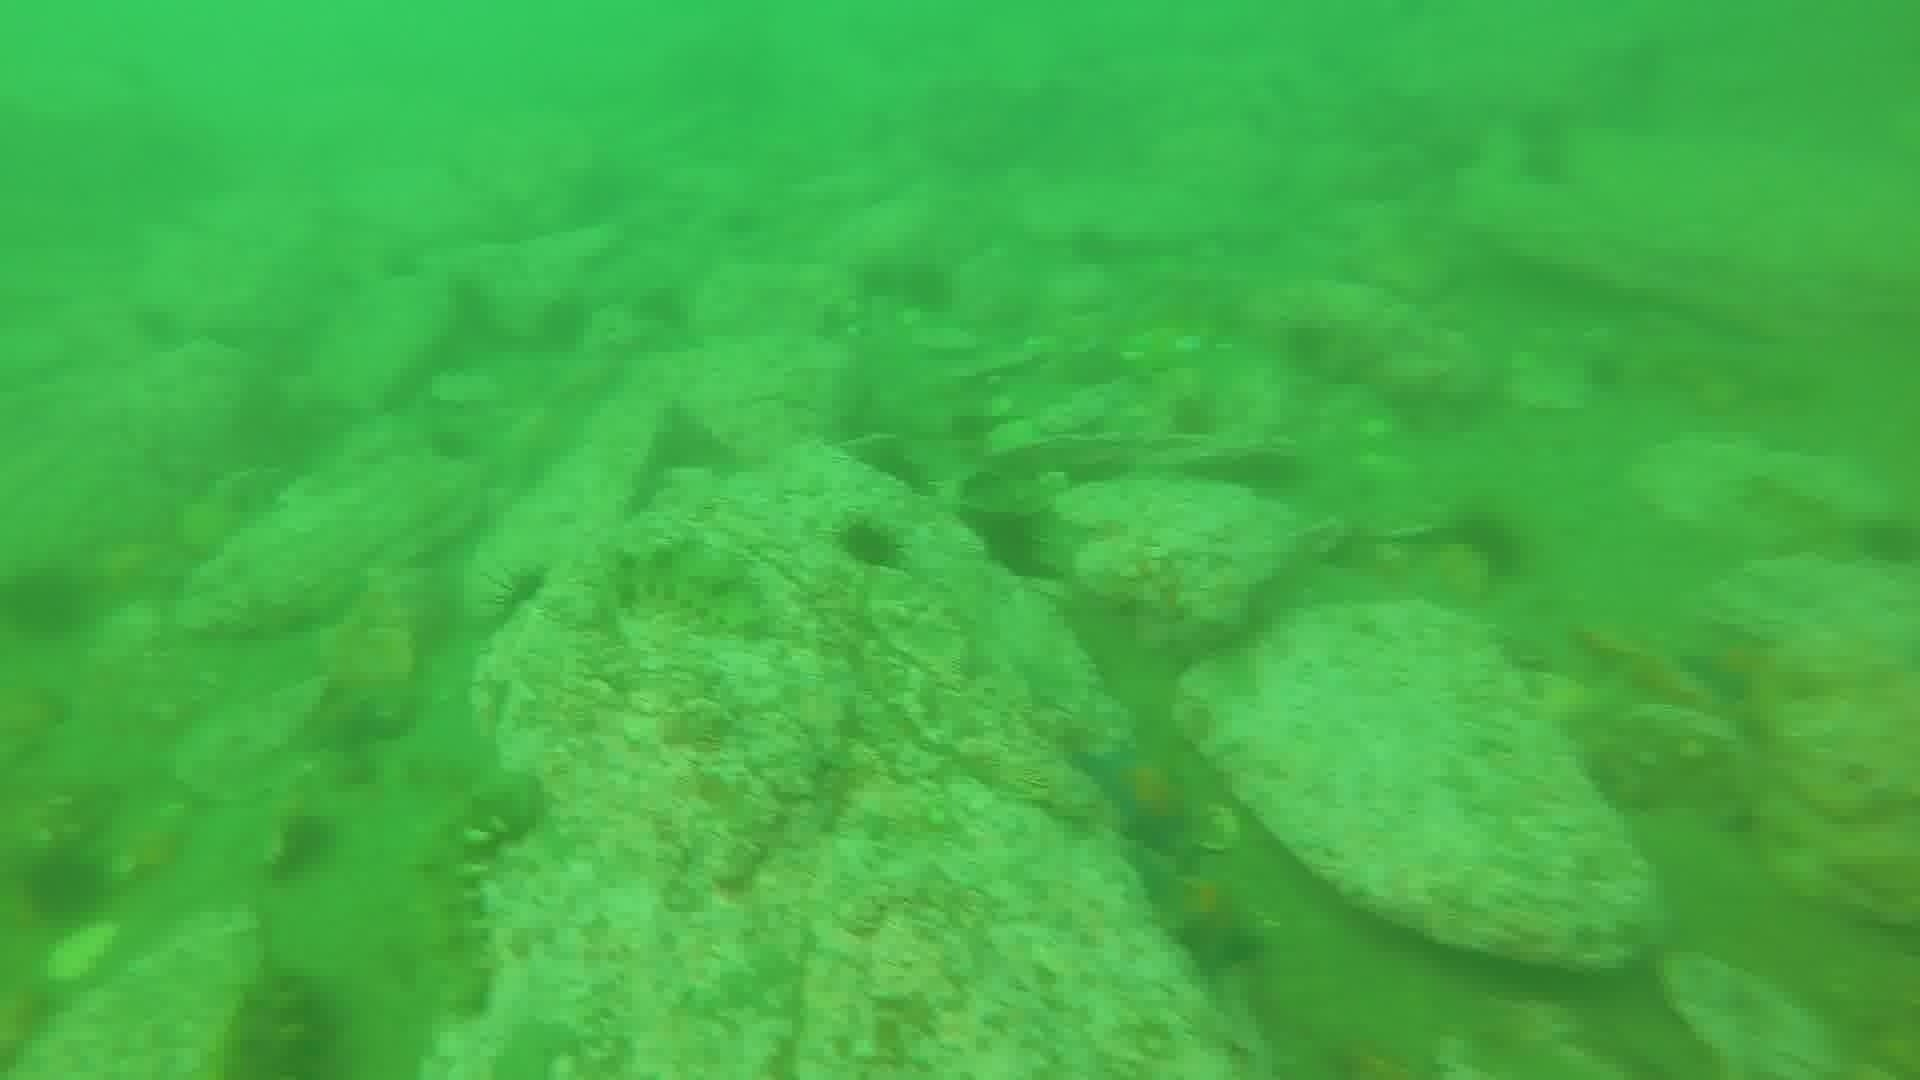echinus: (18, 841, 115, 934), (3, 558, 95, 644), (471, 556, 554, 647), (967, 504, 1056, 584), (1443, 505, 1531, 583), (264, 807, 340, 884), (829, 512, 910, 578), (531, 287, 597, 357), (1853, 509, 1920, 574), (1162, 389, 1222, 443)
holothurian: (400, 771, 535, 1015), (568, 535, 775, 640), (214, 960, 342, 1079)
starfish: (1131, 853, 1270, 977), (1073, 732, 1203, 855), (1675, 622, 1785, 713)
